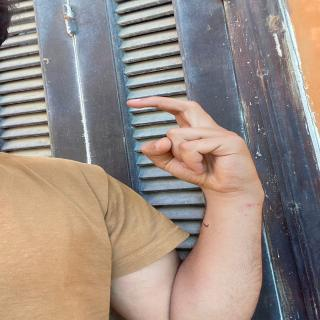ZAY: (118, 87, 294, 203)
